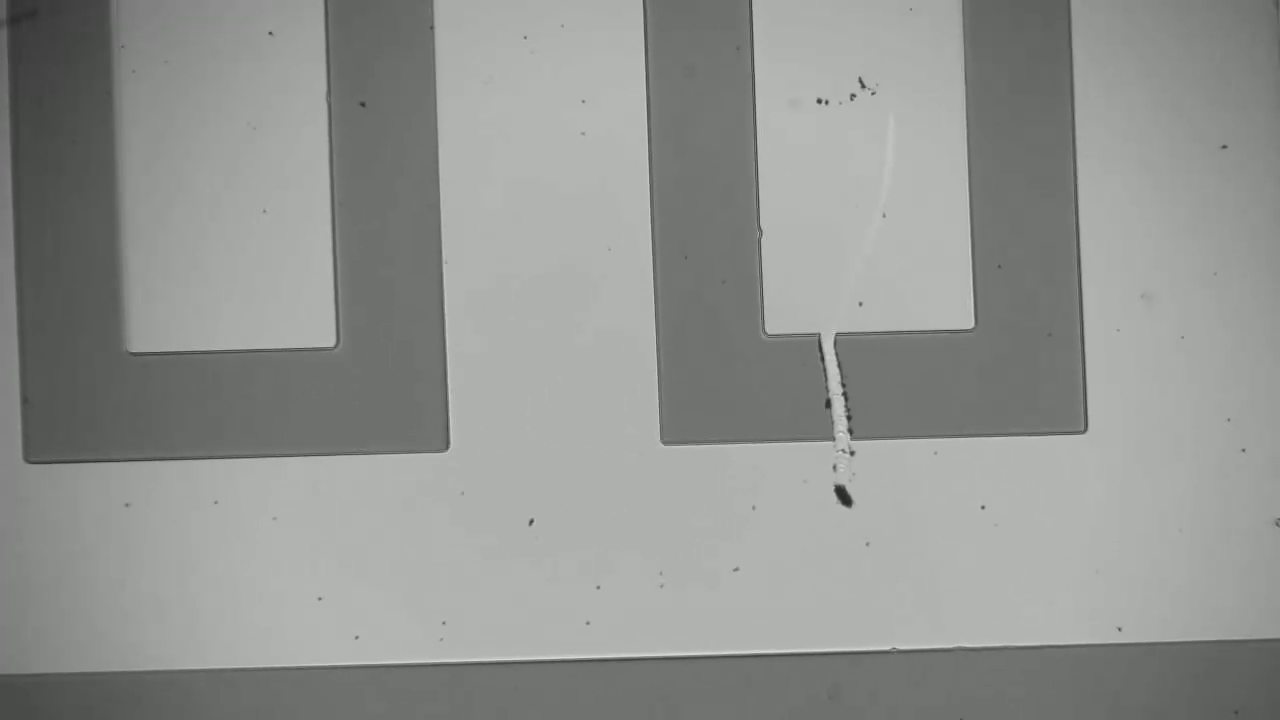Short_circuit: (799, 312, 880, 466)
